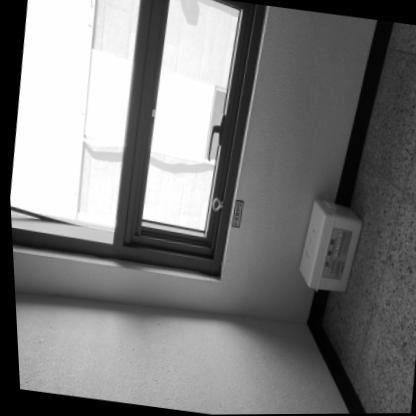DDL: (292, 198, 366, 295)
